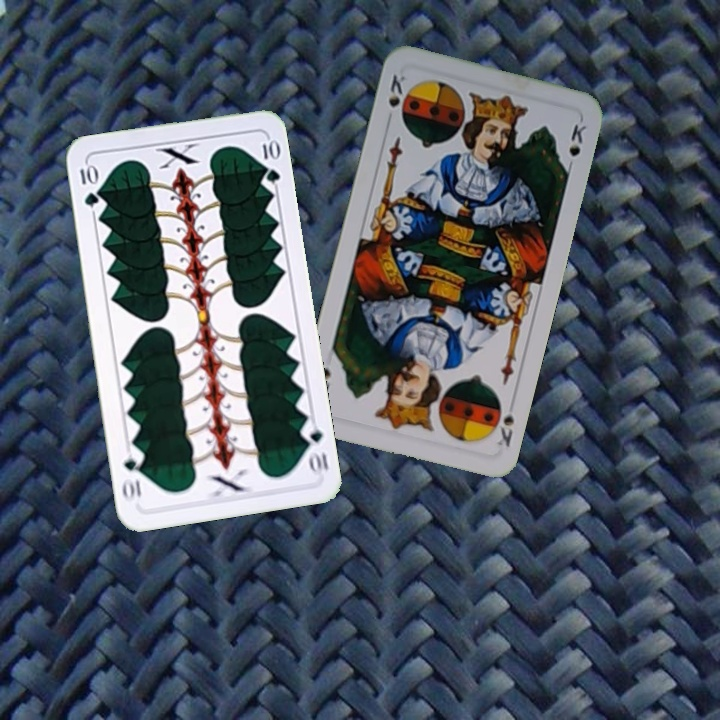G10: (297, 418, 331, 478), (76, 160, 101, 209)
SK: (487, 394, 517, 450), (382, 70, 408, 127)
